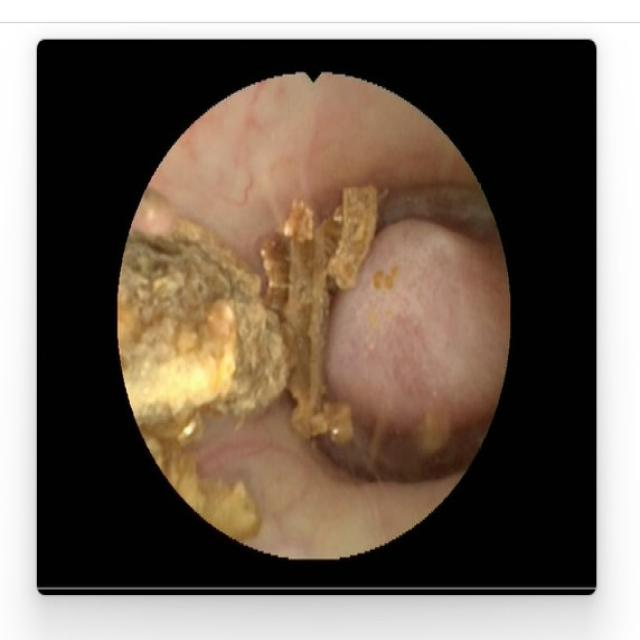stone: (124, 190, 374, 534), (414, 417, 449, 454), (373, 263, 398, 290)
